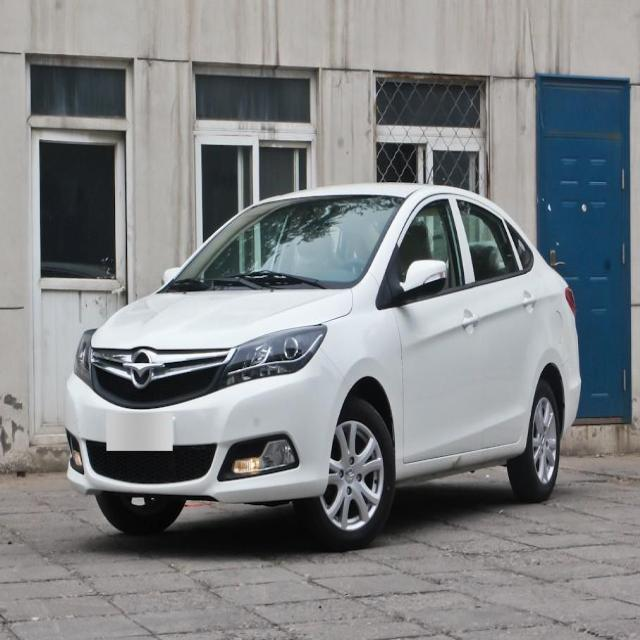back_left_side_light: (561, 284, 577, 323)
door: (447, 192, 538, 446)
front_bumper: (63, 352, 350, 506)
front_glass: (168, 196, 406, 290)
front_left_side_door: (384, 191, 486, 465)
front_left_side_light: (214, 323, 329, 393)
front_left_side_mirror: (394, 256, 448, 304)
front_right_side_light: (74, 327, 97, 391)
front_right_side_mirror: (162, 262, 185, 292)
wheel: (290, 395, 396, 545), (505, 381, 561, 500), (96, 491, 187, 534)
